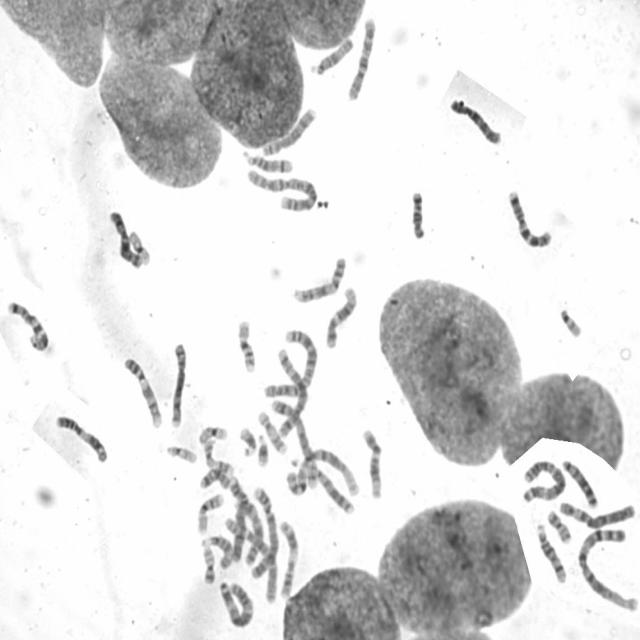A1: (574, 521, 639, 613), (284, 443, 362, 498)
A2: (260, 323, 320, 400), (242, 163, 318, 213)
A3: (519, 454, 567, 504), (214, 575, 256, 629)
B4: (245, 481, 280, 579), (226, 472, 250, 564)
B5: (268, 391, 320, 493), (272, 342, 310, 440)
C10: (343, 11, 378, 102), (448, 98, 504, 147)
C11: (51, 409, 109, 464), (275, 515, 301, 600)
C12: (321, 280, 359, 350), (358, 422, 384, 500)
C6: (223, 509, 280, 605), (554, 495, 637, 529)
C7: (504, 184, 554, 249), (3, 295, 51, 352)
C8: (258, 102, 318, 158), (166, 336, 189, 430)
C9: (119, 351, 164, 429), (289, 251, 348, 304)
D13: (290, 458, 356, 516), (558, 454, 600, 509)
D14: (532, 518, 568, 584), (239, 146, 295, 174)
D15: (305, 32, 355, 76), (197, 531, 235, 570)
E16: (193, 488, 225, 535), (233, 314, 258, 374)
E17: (253, 404, 289, 456), (199, 435, 235, 477)
E18: (406, 189, 427, 240), (197, 462, 232, 490)
F19: (125, 225, 152, 267), (194, 420, 229, 444)
F20: (543, 504, 573, 545), (197, 538, 217, 586)
G21: (236, 421, 258, 457), (252, 428, 270, 468)
G22: (555, 302, 584, 339), (161, 438, 199, 465)
X: (104, 204, 145, 270)
